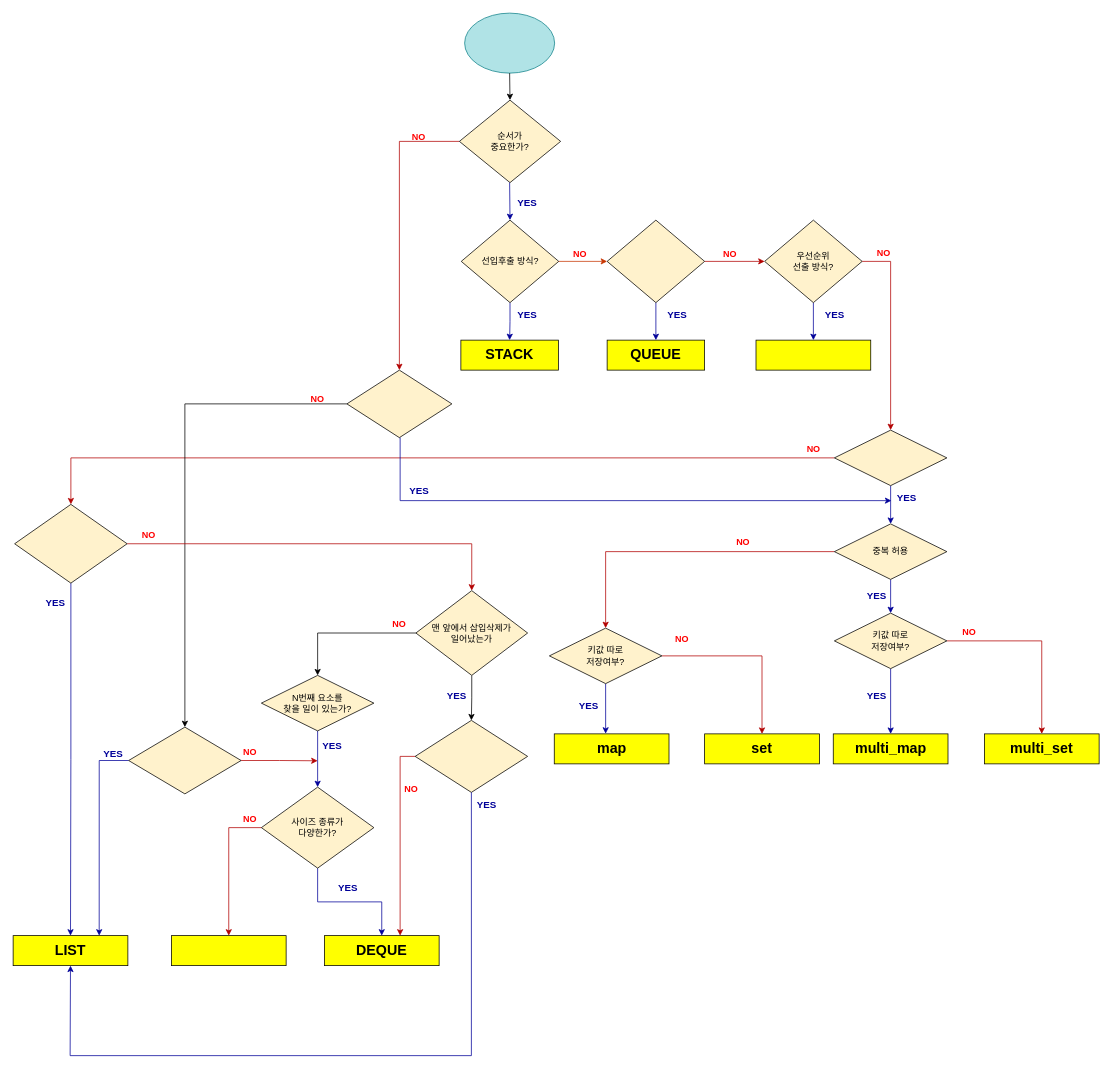
Image size: 1112x1075. Some labels were removed from this diagram. Here are the shapes that lost their labels. From the top down, the box of each, then its label:
(464, 12, 555, 73): START
(606, 219, 705, 303): 선입선출 방식?
(755, 339, 871, 370): Priority_Queue
(346, 369, 452, 438): 자료를 키값으로 찾아야하나?
(834, 429, 947, 486): 키 값으로 정렬여부?
(14, 504, 127, 583): 중간에 삽입 삭제가 일어났는가?
(128, 726, 241, 794): 집합체를 합쳐야 할 일이 있는가?
(414, 720, 528, 792): 집합체를 합쳐야 할 일이 있는가
(171, 935, 286, 966): VECTOR
